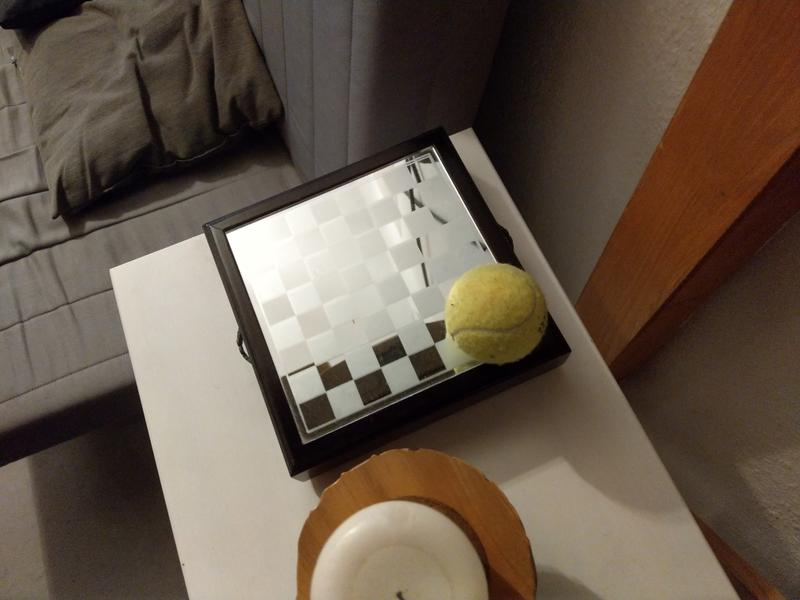Tennisball: (442, 261, 551, 367)
